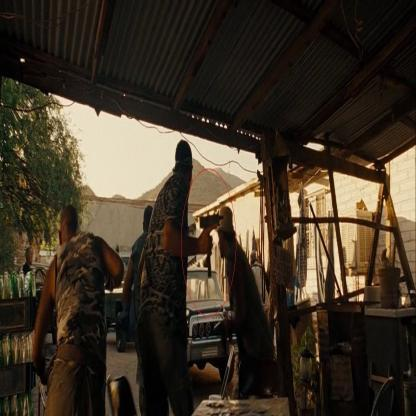gun: (194, 196, 229, 272)
